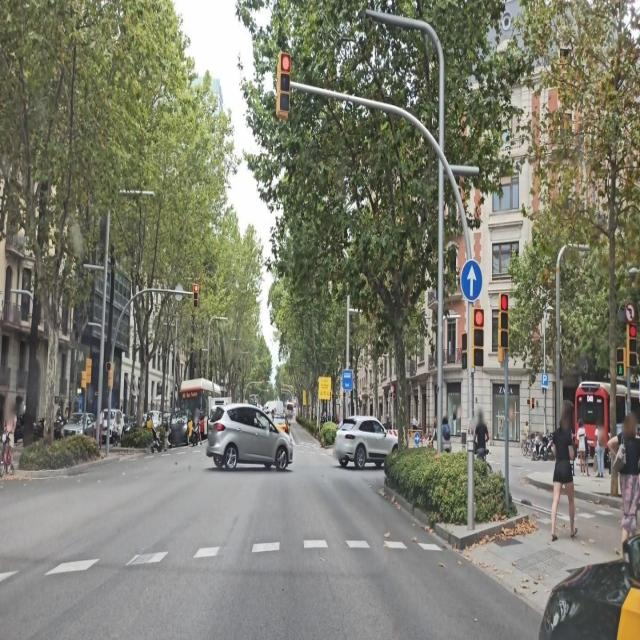bike: (0, 431, 15, 478)
car: (206, 402, 294, 472), (334, 415, 399, 470), (58, 411, 96, 439), (264, 400, 290, 435), (100, 408, 124, 442), (143, 410, 165, 430)
